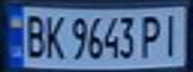3: (118, 12, 139, 61)
4: (103, 13, 124, 60)
6: (84, 14, 106, 61)
9: (66, 14, 87, 61)
B: (21, 11, 48, 60)
I: (157, 10, 184, 58)
K: (42, 11, 69, 60)
P: (136, 11, 166, 58)
